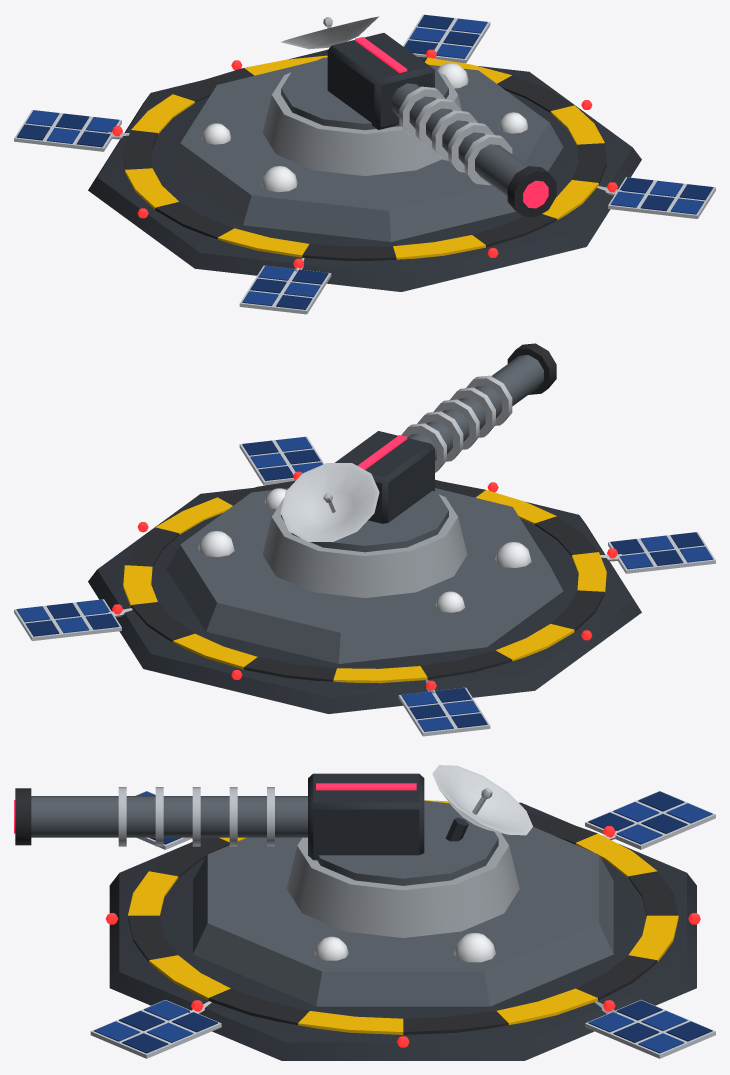
The model's file is asat_laser.glb.
The picture shows the model from 3 angles, top to bottom: view 1: azimuth 30°, elevation 25°; view 2: azimuth 150°, elevation 25°; view 3: azimuth 270°, elevation 25°; orthographic projection. The views are drawn at different scales.
Visible parts, largest first — view 1: body, head; view 2: body, head; view 3: body, head.
Part boxes in pixels (x1,y1,x2,y2): body: (14,14,715,314); head: (262,16,556,217); body: (14,436,715,736); head: (262,343,556,597); body: (90,791,715,1060); head: (14,765,532,937).
Size of the model in its own units: 236 by 67.93 by 265.
